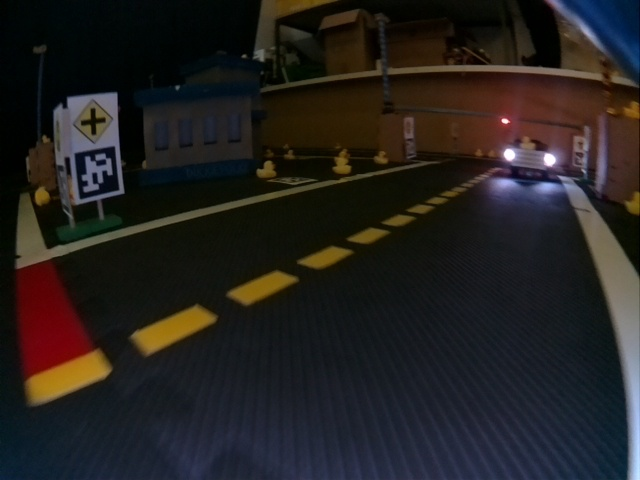Duckie: (256, 161, 277, 177), (34, 187, 50, 206), (623, 101, 639, 119), (335, 159, 351, 171), (374, 152, 389, 163)
Duckiebot: (504, 141, 555, 178)
Intersection sign: (73, 99, 114, 142)
QR code: (74, 151, 119, 200), (272, 176, 316, 185)
